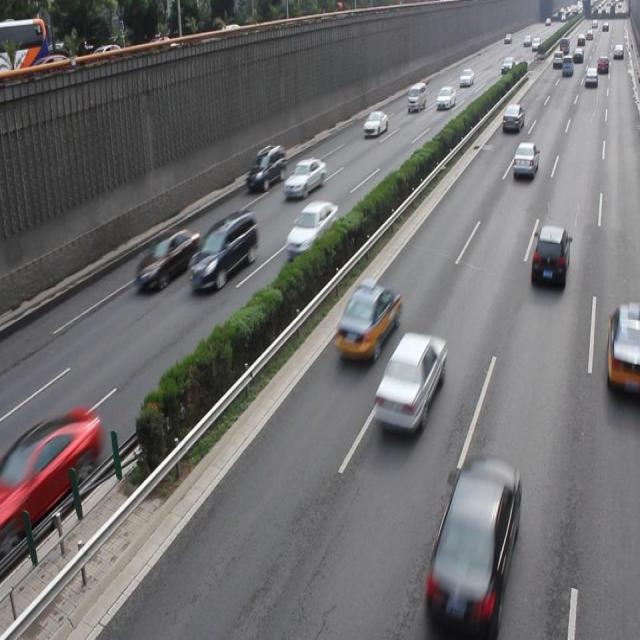car: (423, 454, 520, 640), (1, 409, 101, 540), (371, 331, 446, 434), (188, 208, 258, 290), (335, 279, 399, 360), (135, 226, 199, 292), (604, 302, 640, 397), (285, 198, 336, 256), (529, 225, 569, 291), (245, 142, 285, 191), (282, 156, 326, 198), (511, 142, 537, 180)
